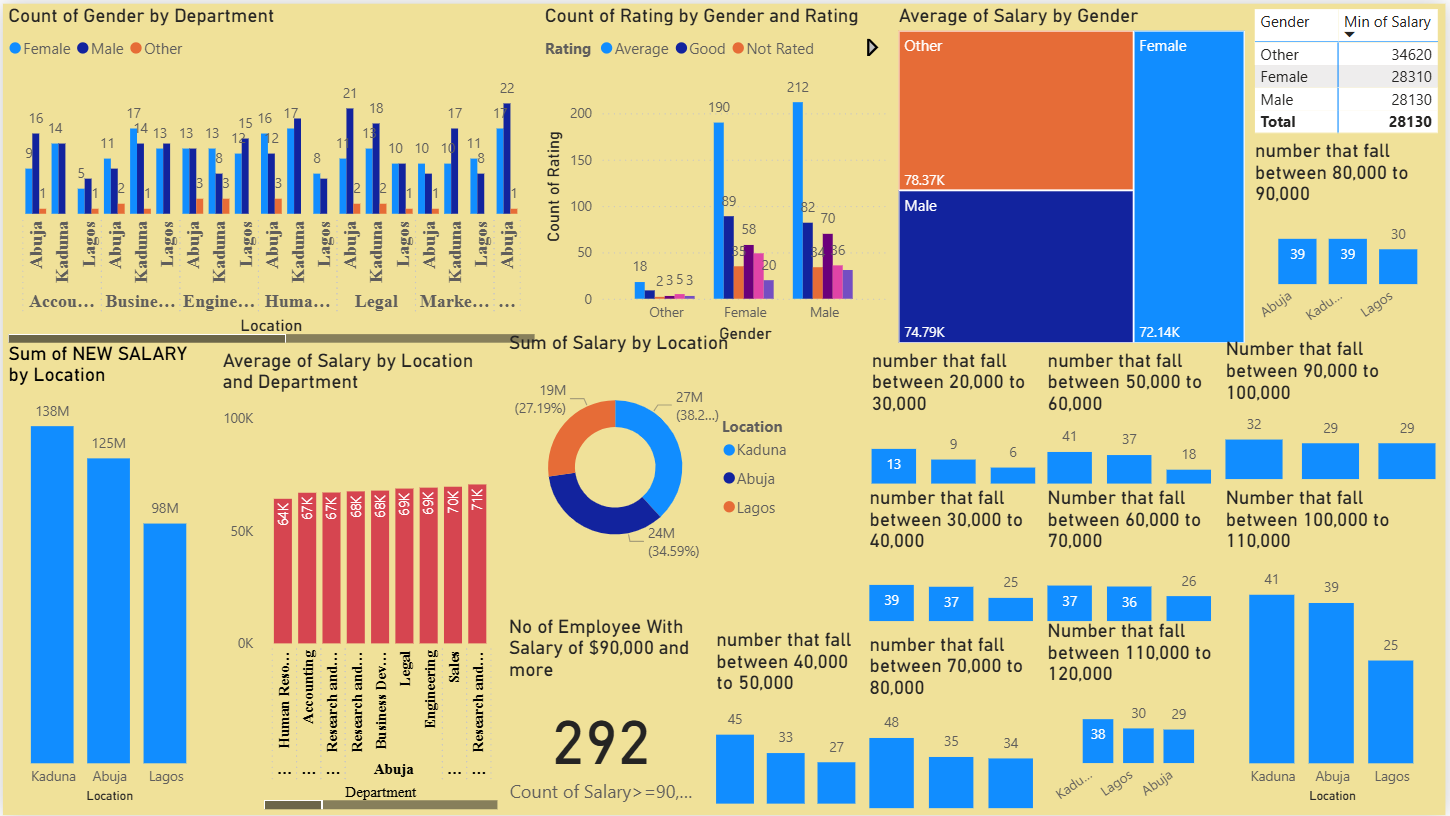

Layout of this report page (visuals, bound fields, positions):
{"tool":"powerbi","page":{"name":"Page 1","canvas":[1280,720],"ordinal":0},"visuals":[{"type":"clusteredColumnChart","title":"Count of Gender by Department","fields":{"Category":["Palmoria Group emp-data.Department","Palmoria Group emp-data.Location"],"Y":["CountNonNull(Palmoria Group emp-data.Gender)"],"Series":["Palmoria Group emp-data.Gender"]},"box":[0,0,477,306.1],"z":0},{"type":"pivotTable","fields":{"Rows":["Palmoria Group emp-data.Gender"],"Values":["Min(Palmoria Group emp-data.Salary)"]},"box":[1106,0,174,124],"z":1000},{"type":"treemap","fields":{"Group":["Palmoria Group emp-data.Gender"],"Values":["Avg(Palmoria Group emp-data.Salary)"]},"box":[790.2,0,316.8,306.1],"z":2000},{"type":"donutChart","fields":{"Category":["Palmoria Group emp-data.Location"],"Y":["Sum(Palmoria Group emp-data.Salary)"]},"box":[444,290,272,224],"z":3000},{"type":"clusteredColumnChart","fields":{"Category":["Palmoria Group emp-data.Location","Palmoria Group emp-data.Department"],"Y":["Avg(Palmoria Group emp-data.Salary)"]},"box":[190,306,254,414],"z":4000},{"type":"clusteredColumnChart","fields":{"Category":["Palmoria Group emp-data.Gender"],"Y":["CountNonNull(Palmoria Group emp-data.Rating)"],"Series":["Palmoria Group emp-data.Rating"]},"box":[476.6,0,314.2,305.5],"z":5000},{"type":"card","title":"No of Employee With Salary of $90,000 and more","fields":{"Values":["CountNonNull(Palmoria Group emp-data.Salary>=90,000)"]},"box":[444,490,174,230],"z":6000},{"type":"clusteredColumnChart","title":"number that fall between 20,000 to 30,000","fields":{"Y":["CountNonNull(Palmoria Group emp-data.Salary)"],"Category":["Palmoria Group emp-data.Location"]},"box":[766,306,158,126],"z":7000},{"type":"clusteredColumnChart","title":"number that fall between 30,000 to 40,000","fields":{"Y":["CountNonNull(Palmoria Group emp-data.Salary)"],"Category":["Palmoria Group emp-data.Location"]},"box":[764,427.4,158,126],"z":8000},{"type":"clusteredColumnChart","title":"number that fall between 40,000 to 50,000","fields":{"Y":["CountNonNull(Palmoria Group emp-data.Salary)"],"Category":["Palmoria Group emp-data.Location"]},"box":[628,554,136,162],"z":9000},{"type":"clusteredColumnChart","title":"number that fall between 50,000 to 60,000","fields":{"Y":["CountNonNull(Palmoria Group emp-data.Salary)"],"Category":["Palmoria Group emp-data.Location"]},"box":[922,306,158,126],"z":10000},{"type":"clusteredColumnChart","title":"Number that fall between 60,000 to 70,000","fields":{"Y":["CountNonNull(Palmoria Group emp-data.Salary)"],"Category":["Palmoria Group emp-data.Location"]},"box":[922,427.4,158,126],"z":11000},{"type":"clusteredColumnChart","title":"number that fall between 70,000 to 80,000","fields":{"Y":["CountNonNull(Palmoria Group emp-data.Salary)"],"Category":["Palmoria Group emp-data.Location"]},"box":[764,558,158,162],"z":12000},{"type":"clusteredColumnChart","title":"number that fall between 80,000 to 90,000","fields":{"Y":["CountNonNull(Palmoria Group emp-data.Salary)"],"Category":["Palmoria Group emp-data.Location"]},"box":[1106,119.4,174,176],"z":13000},{"type":"clusteredColumnChart","title":"Number that fall between 90,000 to 100,000","fields":{"Y":["CountNonNull(Palmoria Group emp-data.Salary)"],"Category":["Palmoria Group emp-data.Location"]},"box":[1080,295.4,200,132],"z":14000},{"type":"clusteredColumnChart","title":"Number that fall between 100,000 to 110,000","fields":{"Y":["CountNonNull(Palmoria Group emp-data.Salary)"],"Category":["Palmoria Group emp-data.Location"]},"box":[1080,428,200,286],"z":15000},{"type":"clusteredColumnChart","title":"Number that fall between 110,000 to 120,000","fields":{"Y":["CountNonNull(Palmoria Group emp-data.Salary)"],"Category":["Palmoria Group emp-data.Location"]},"box":[922,546,156,174],"z":16000},{"type":"clusteredColumnChart","fields":{"Category":["Merge1.Location"],"Y":["Sum(Merge1.NEW SALARY)"]},"box":[0,300,190,414],"z":17000}]}

Visuals, with their boxes in screenshot pixels (x1, y1, x2, y2), scaled from the page's 1280x720 canvas onto the 1450x816 screenshot:
"Count of Gender by Department" clusteredColumnChart: [left=0, top=0, right=540, bottom=347]
pivotTable - Palmoria Group emp-data.Gender x Min(Palmoria Group emp-data.Salary): [left=1253, top=0, right=1449, bottom=141]
treemap - Palmoria Group emp-data.Gender x Avg(Palmoria Group emp-data.Salary): [left=895, top=0, right=1254, bottom=347]
donutChart - Palmoria Group emp-data.Location x Sum(Palmoria Group emp-data.Salary): [left=503, top=329, right=811, bottom=583]
clusteredColumnChart - Palmoria Group emp-data.Location x Palmoria Group emp-data.Department: [left=215, top=347, right=503, bottom=815]
clusteredColumnChart - Palmoria Group emp-data.Gender x CountNonNull(Palmoria Group emp-data.Rating): [left=540, top=0, right=896, bottom=346]
"No of Employee With Salary of $90,000 and more" card: [left=503, top=555, right=700, bottom=815]
"number that fall between 20,000 to 30,000" clusteredColumnChart: [left=868, top=347, right=1047, bottom=490]
"number that fall between 30,000 to 40,000" clusteredColumnChart: [left=865, top=484, right=1044, bottom=627]
"number that fall between 40,000 to 50,000" clusteredColumnChart: [left=711, top=628, right=865, bottom=811]
"number that fall between 50,000 to 60,000" clusteredColumnChart: [left=1044, top=347, right=1223, bottom=490]
"Number that fall between 60,000 to 70,000" clusteredColumnChart: [left=1044, top=484, right=1223, bottom=627]
"number that fall between 70,000 to 80,000" clusteredColumnChart: [left=865, top=632, right=1044, bottom=815]
"number that fall between 80,000 to 90,000" clusteredColumnChart: [left=1253, top=135, right=1449, bottom=335]
"Number that fall between 90,000 to 100,000" clusteredColumnChart: [left=1223, top=335, right=1449, bottom=484]
"Number that fall between 100,000 to 110,000" clusteredColumnChart: [left=1223, top=485, right=1449, bottom=809]
"Number that fall between 110,000 to 120,000" clusteredColumnChart: [left=1044, top=619, right=1221, bottom=815]
clusteredColumnChart - Merge1.Location x Sum(Merge1.NEW SALARY): [left=0, top=340, right=215, bottom=809]
